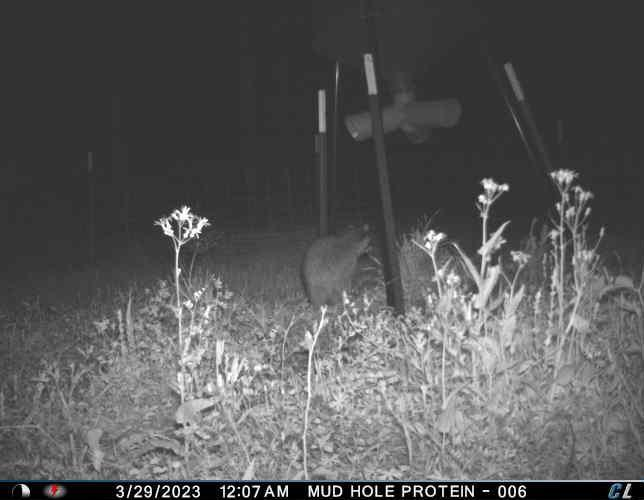Raccoon: (298, 220, 377, 314)
